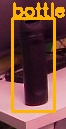bottle: (12, 18, 54, 111)
